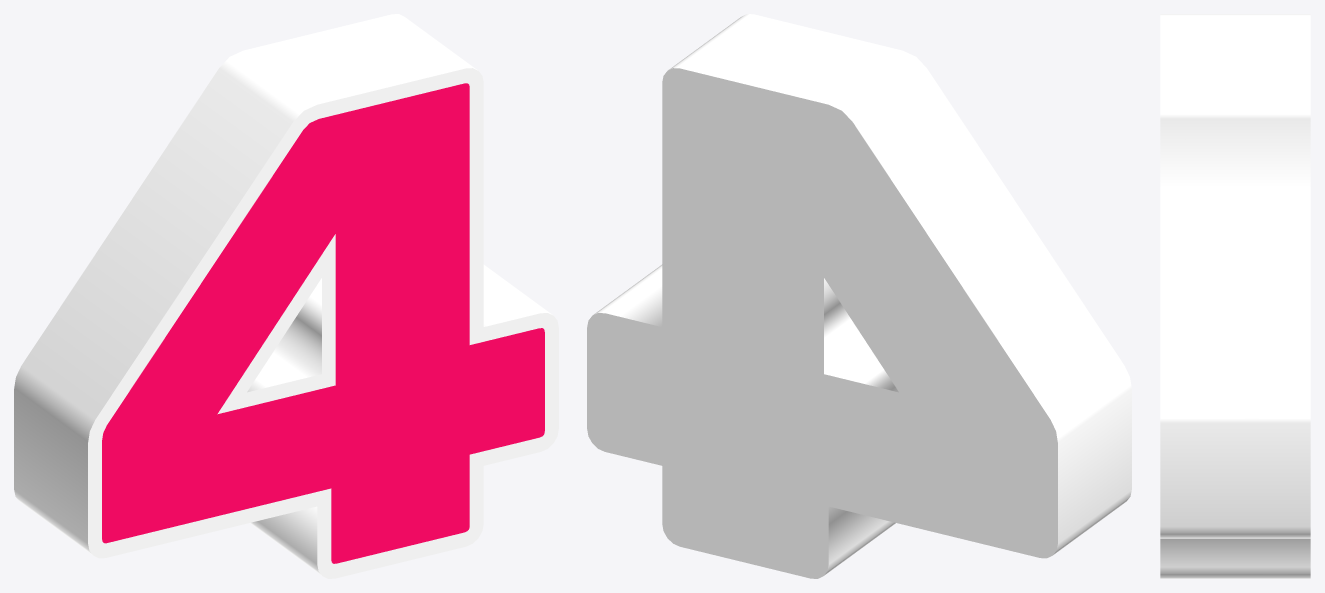
The model's file is number_4.glb.
3 renders of one model, left to right at view 1: azimuth 30°, elevation 25°; view 2: azimuth 150°, elevation 25°; view 3: azimuth 270°, elevation 25°, orthographic.
Visible parts, largest first — view 1: Nmbr.4; view 2: Nmbr.4; view 3: Nmbr.4.
Boxes of the visible parts, left/top/right/bottom form: Nmbr.4: left=14, top=14, right=558, bottom=578; Nmbr.4: left=587, top=14, right=1131, bottom=578; Nmbr.4: left=1160, top=14, right=1310, bottom=578.
Bounding box in the file's own units: 1.12 × 1.09 × 0.3052.
Materials: 1 (1 with a texture image).
